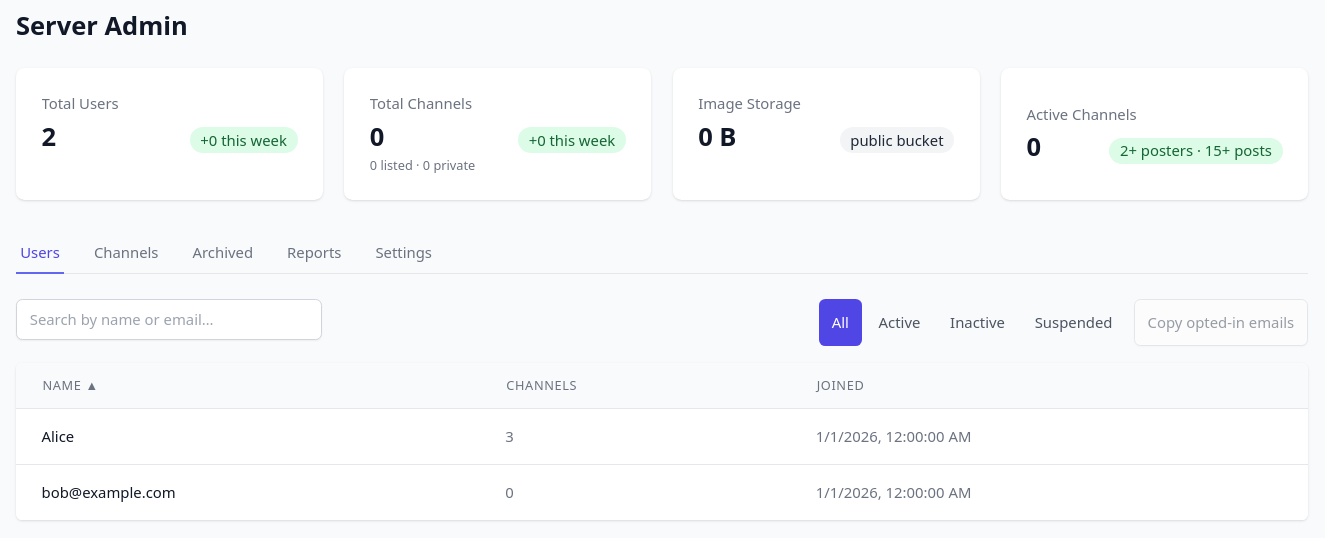
Test: AdminView › keeps the rest of the console usable when the archived fetch fails
expect the text "Alice" is shown: met, box [42,426,74,447]
What coordinates should you click on to do the following:
click the button "Archived"
I would click on:
 (223, 254)
Its box is [188,234,257,274].
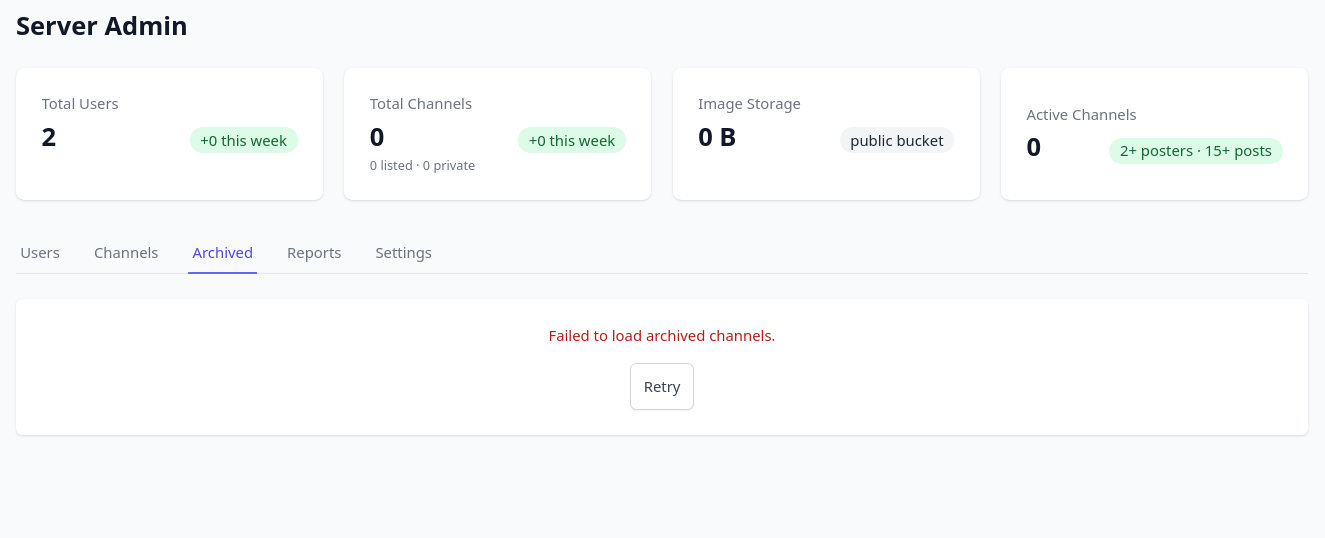
expect the text "Failed to load archived channels." is shown: met, box [548,325,776,345]
